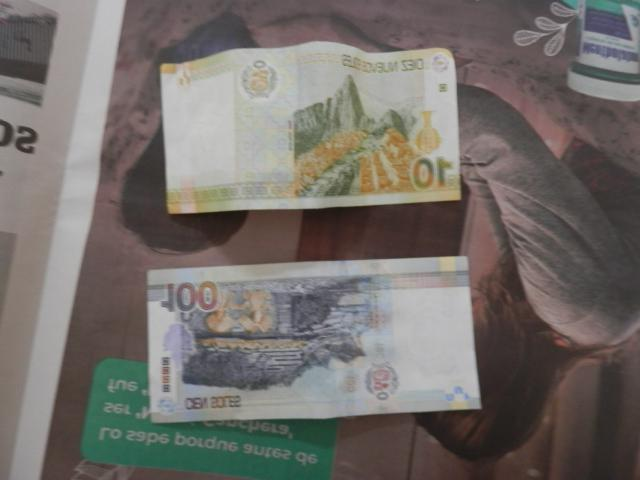B10: (159, 41, 462, 210)
B100: (148, 259, 483, 421)
